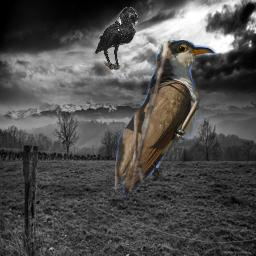Crow: (95, 7, 138, 70)
Cuckoo: (115, 40, 240, 197)
